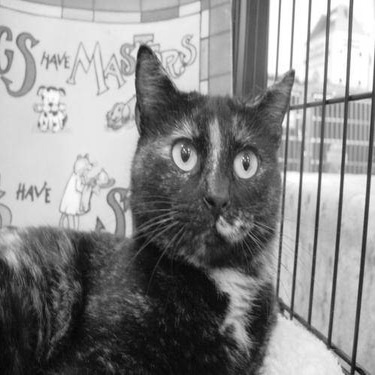cat: (1, 41, 295, 372)
